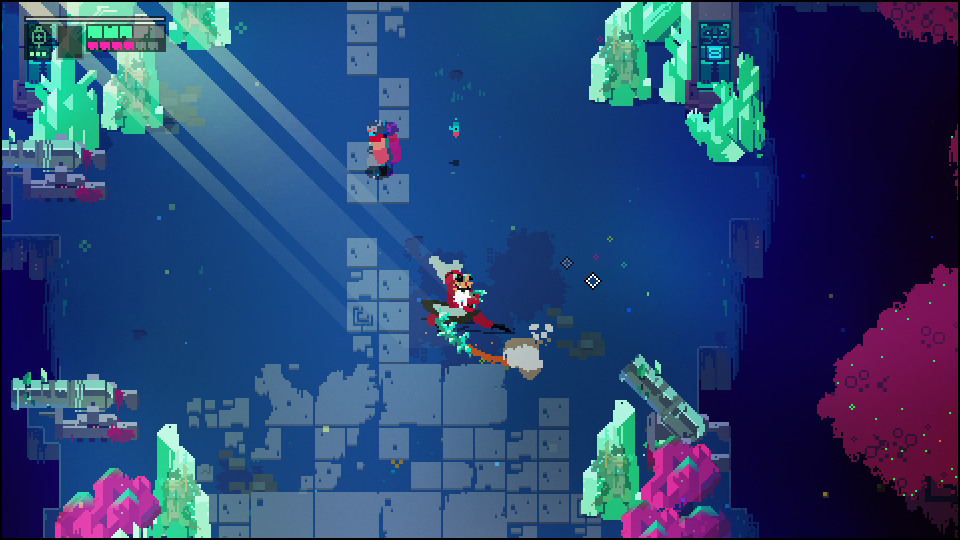hanged_man: (423, 250, 504, 372)
player: (364, 119, 393, 178)
